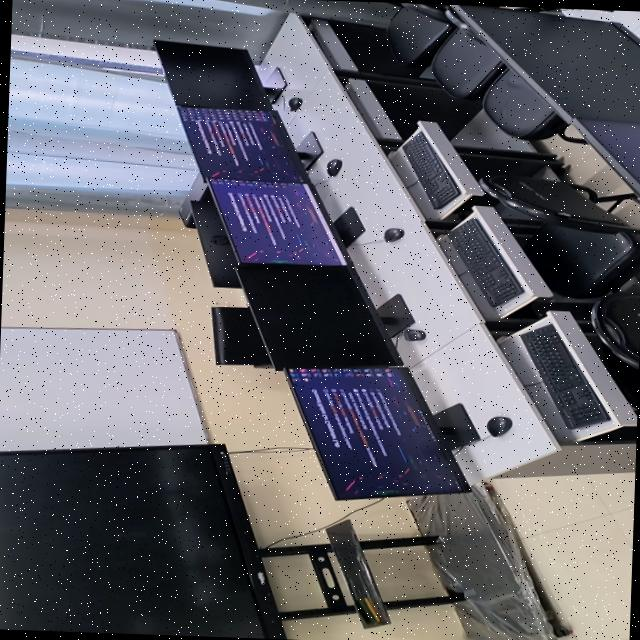Chair: (478, 175, 640, 298), (401, 3, 505, 98), (481, 68, 585, 143), (590, 291, 640, 408), (385, 2, 454, 71), (210, 306, 270, 368)
Cpu: (178, 173, 205, 227)
Digital board: (0, 444, 567, 640)
Keyboard: (520, 324, 609, 429), (447, 218, 523, 307), (400, 130, 460, 209)
Monitor: (285, 366, 477, 500), (447, 4, 640, 123), (235, 264, 412, 369), (207, 178, 363, 264), (176, 106, 321, 183), (153, 40, 285, 110), (573, 119, 640, 200), (189, 187, 240, 288)
Mouse: (485, 416, 511, 436), (402, 328, 424, 341), (382, 227, 402, 241), (325, 159, 341, 176), (286, 97, 301, 110)
